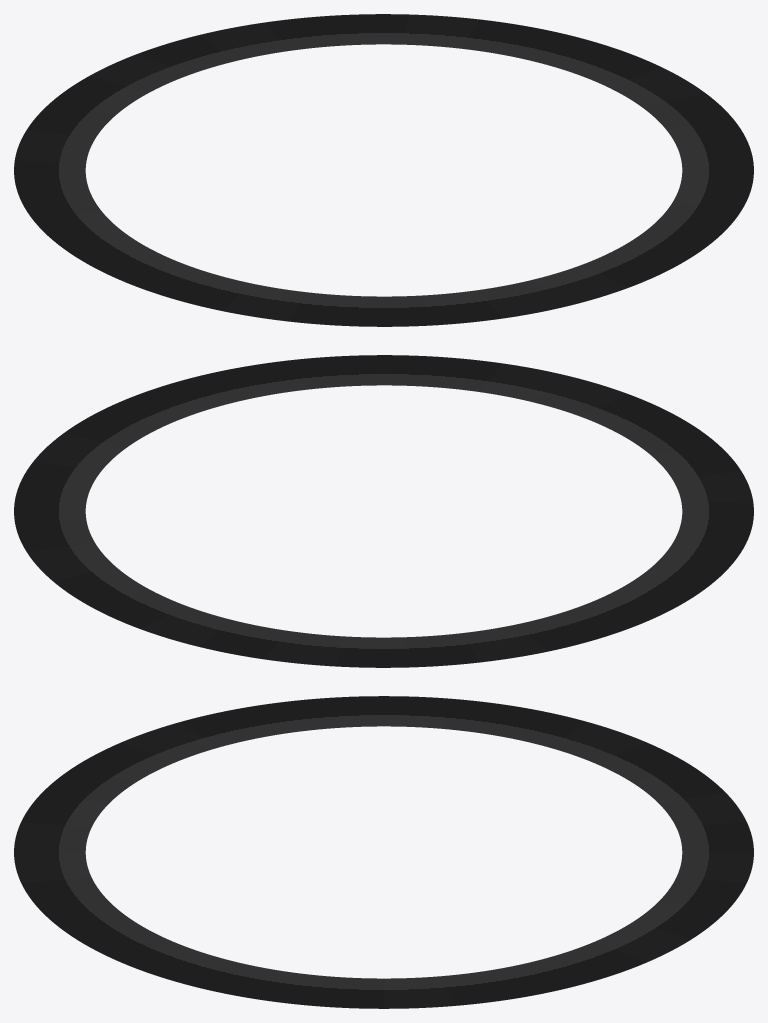
The model's file is Scanner.fbx.
3 views of the same model, one above another, from view 1: azimuth 30°, elevation 25°; view 2: azimuth 150°, elevation 25°; view 3: azimuth 270°, elevation 25° (orthographic).
Visible parts, largest first — view 1: Ring; view 2: Ring; view 3: Ring.
Part boxes in pixels (bbox=[...]): Ring: bbox=[14, 14, 753, 326]; Ring: bbox=[14, 355, 753, 667]; Ring: bbox=[14, 696, 753, 1008].
Size of the model in its own units: 164 by 1.01e-14 by 164.
Materials: 1 (1 with a texture image).
